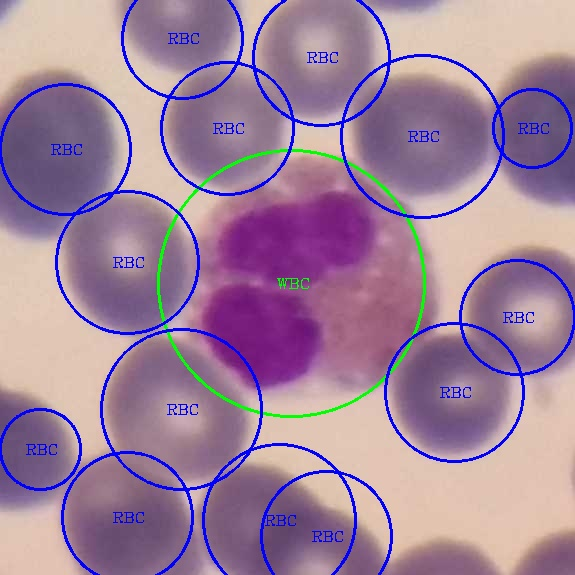RBC: (98, 331, 256, 485), (0, 65, 129, 251), (57, 191, 197, 343), (347, 70, 498, 209), (57, 448, 203, 573), (154, 63, 292, 194), (460, 240, 574, 389), (254, 0, 383, 125), (383, 332, 515, 454), (482, 46, 573, 216), (194, 463, 313, 573), (108, 0, 256, 77), (0, 377, 79, 521), (247, 499, 391, 574)
WBC: (187, 161, 443, 410)
